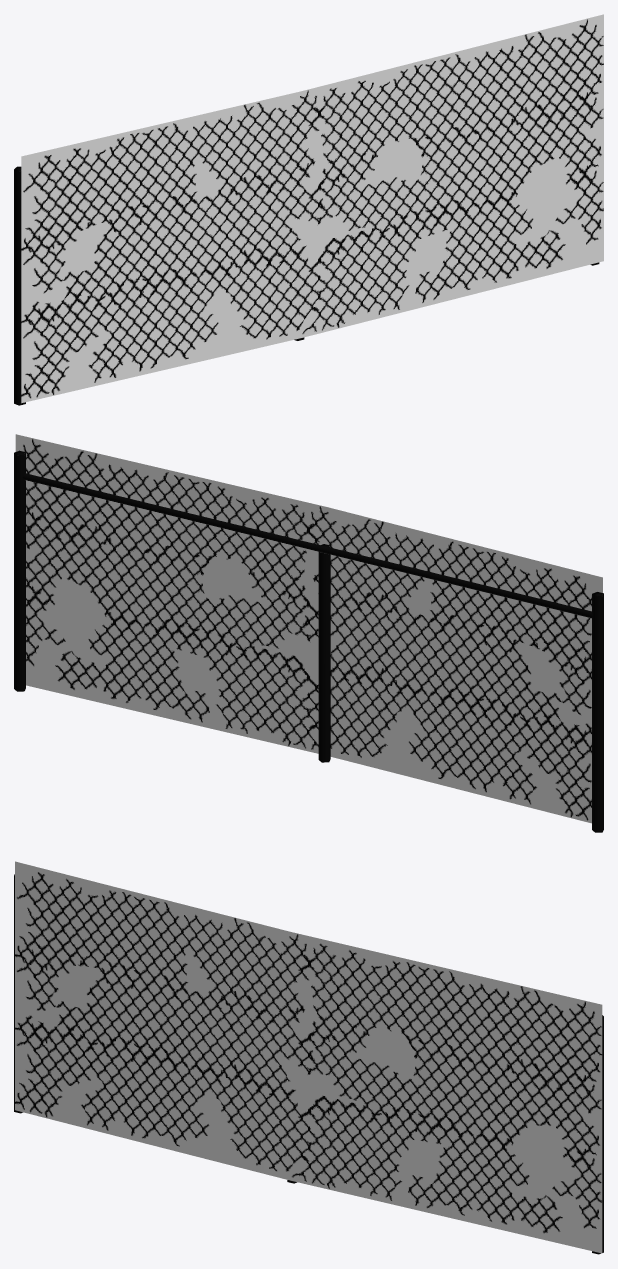
File: ChainLinkFence.fbx
3 views of the same model, one above another, from view 1: azimuth 30°, elevation 25°; view 2: azimuth 150°, elevation 25°; view 3: azimuth 330°, elevation 25° (orthographic).
Parts seen in each view (by area): view 1: ChainLinkFence; view 2: ChainLinkFence; view 3: ChainLinkFence.
Boxes of the visible parts, box(x1,y1,x2,y2) form: ChainLinkFence: box(14, 14, 603, 405); ChainLinkFence: box(14, 434, 603, 832); ChainLinkFence: box(14, 861, 603, 1254).
Bounding box in the file's own units: 1159 × 471 × 31.45.
Materials: 1 (1 with a texture image).
